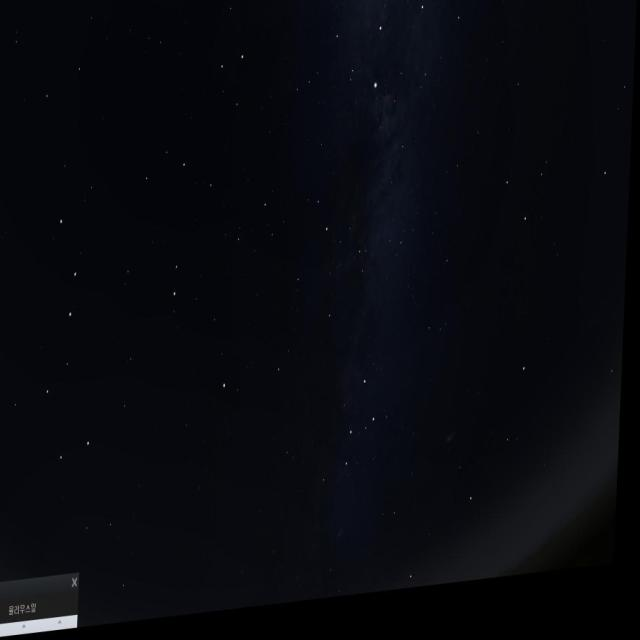cassiopeia: (312, 368, 397, 500)
cygnus: (326, 0, 430, 125)
ursa_major: (36, 223, 114, 498)
